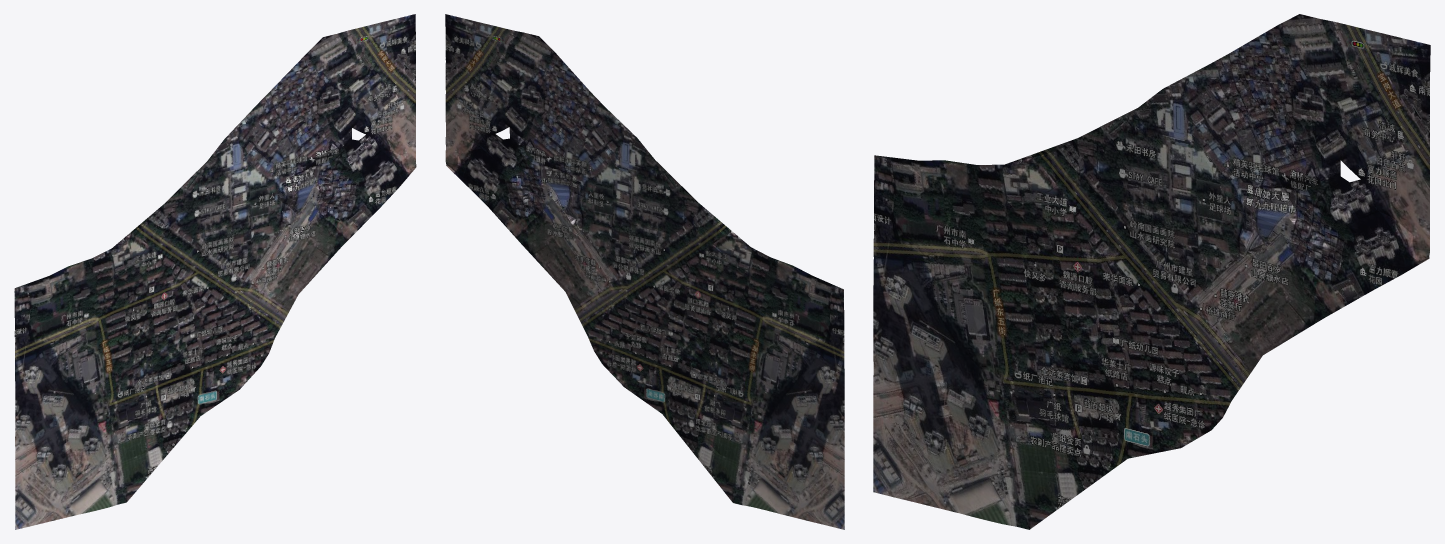
3 views of the same model, side by side, from view 1: azimuth 30°, elevation 25°; view 2: azimuth 150°, elevation 25°; view 3: azimuth 330°, elevation 25° (orthographic). The views are drawn at different scales.
Parts seen in each view (by area): view 1: 0_3_2_0_1; view 2: 0_3_2_0_1; view 3: 0_3_2_0_1.
Part boxes in pixels (<box>): 0_3_2_0_1: <box>14,14,416,529</box>; 0_3_2_0_1: <box>445,14,844,529</box>; 0_3_2_0_1: <box>873,14,1430,529</box>.
Size of the model in its own units: 972 by 972 by 19.88.
1 material, 1 textured.
